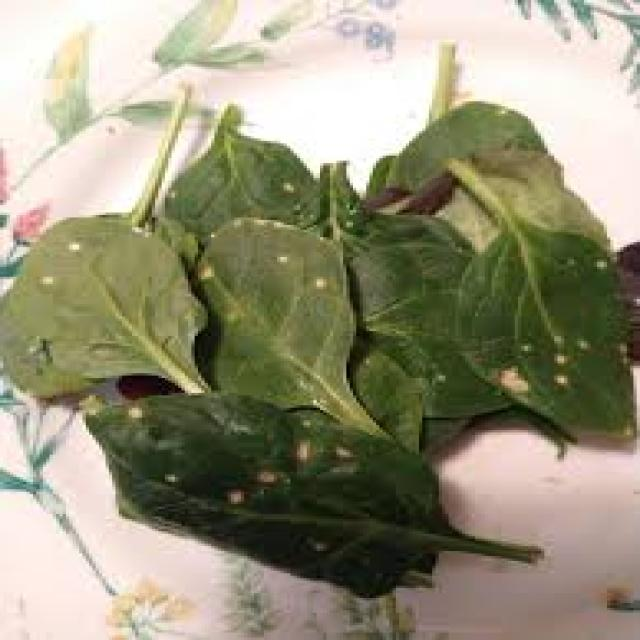rotten spinach: (0, 42, 640, 603), (161, 143, 501, 465), (80, 378, 532, 587), (429, 159, 640, 455), (5, 196, 214, 403)
